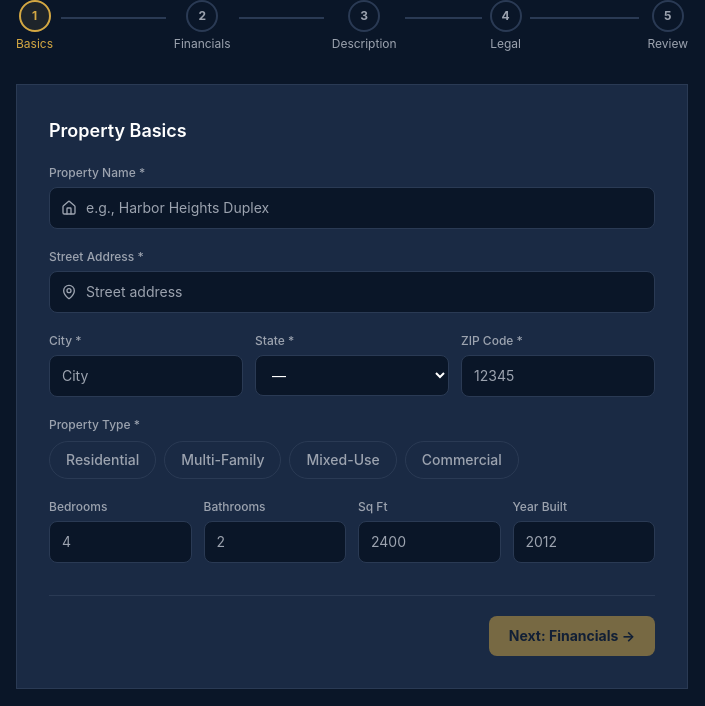
Test case: ListPropertyForm › Back button returns to step 1 from step 2
The image size is (705, 706).
Note: Fill and advance to step 2
Type "My Property" into the field with placeholder "e.g., Harbor Heights Duplex" at (352, 208), box [49,187,655,229]
Type "123 Main St" into the field with placeholder "Street address" at (352, 292), box [49,271,655,313]
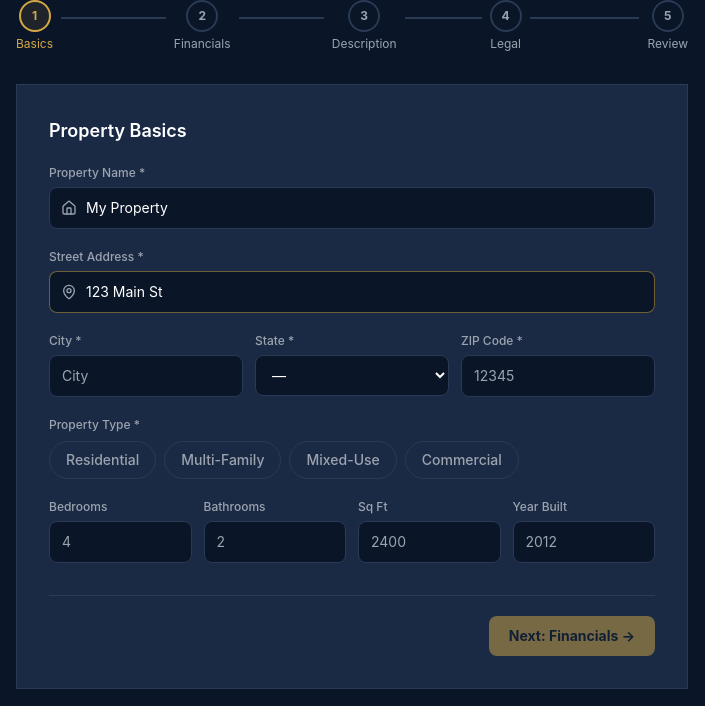
Type "Tampa" into the field with placeholder "City" at (146, 376), box [49,355,243,397]
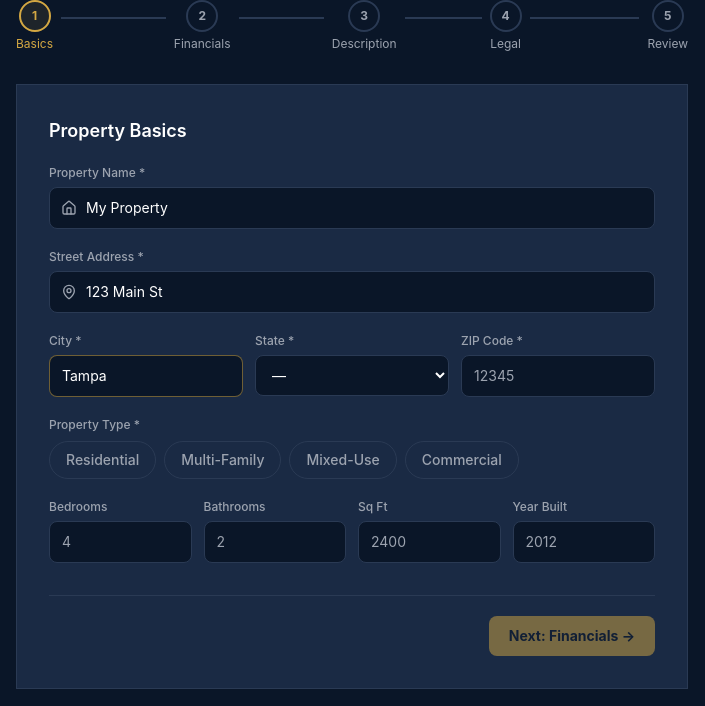
Select "FL" in the dropdown at (352, 376), box [255,355,449,396]
Type "33602" into the field with placeholder "12345" at (558, 376), box [461,355,655,397]
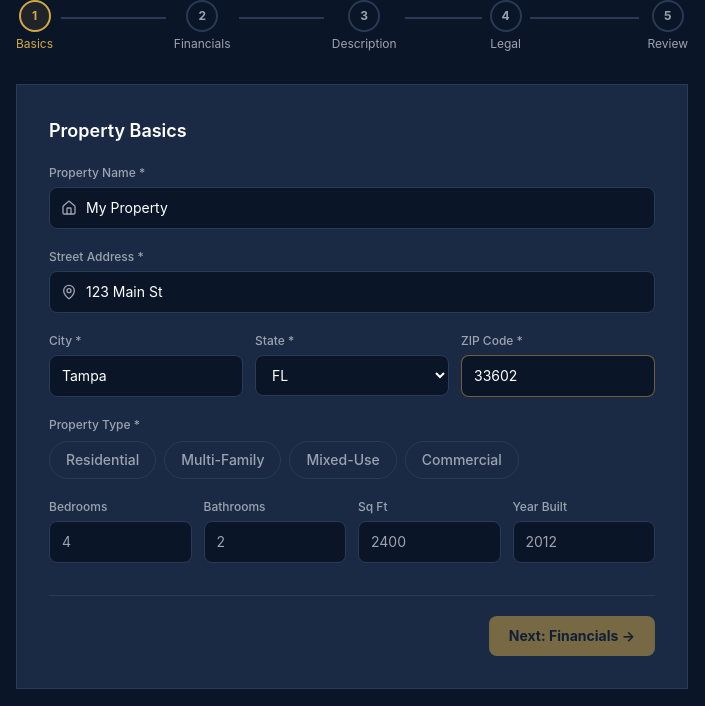
Click the button "Residential" at (103, 460), box [49,441,156,479]
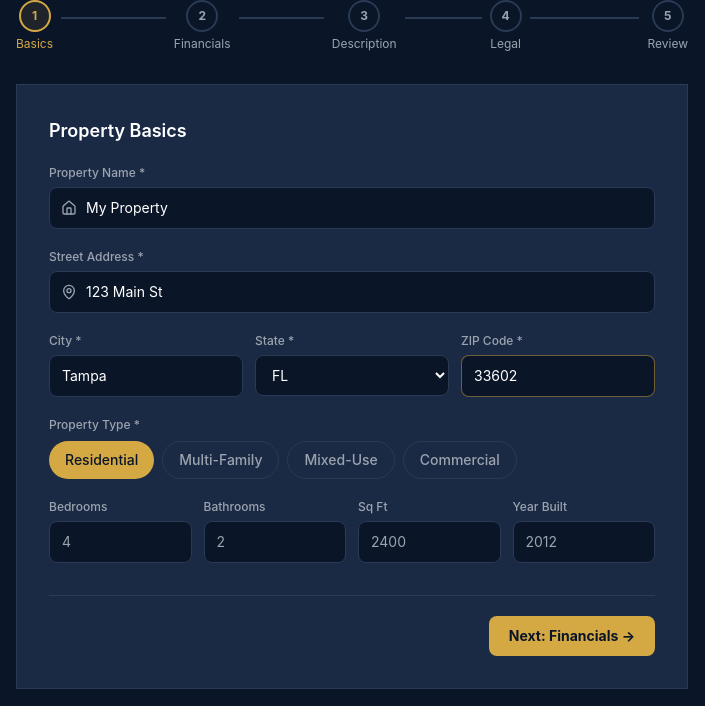
Click the button "Next: Financials →" at (572, 636), box [489,616,655,656]
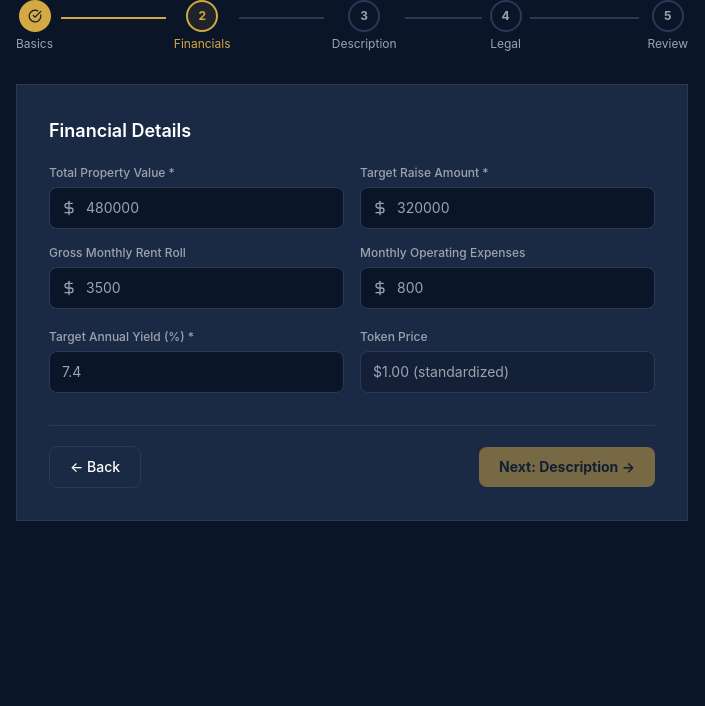
Expected: the heading "Financial Details" is shown, [49,120,191,141]
Note:  Go back
Click the button "← Back" at (95, 467), box [49,446,141,488]
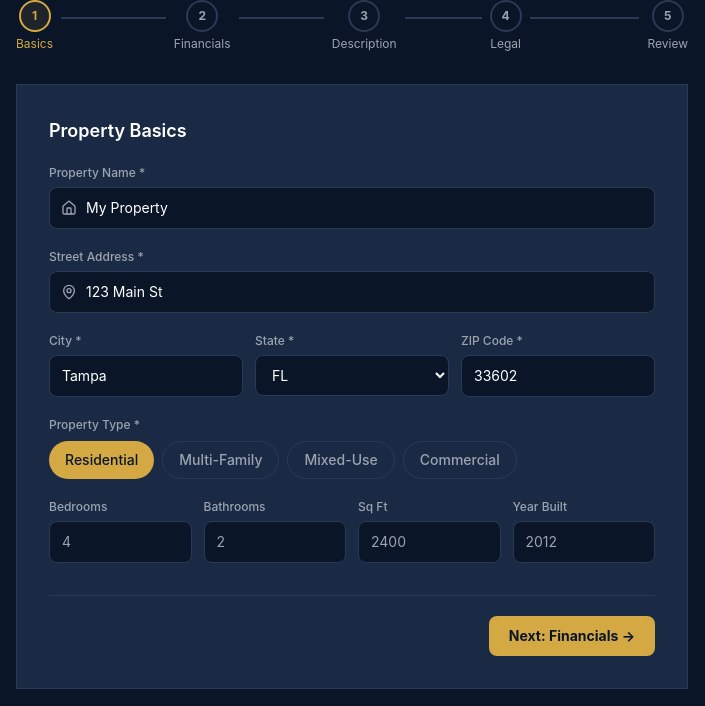
Expected: the heading "Property Basics" is shown, [49,120,187,141]
